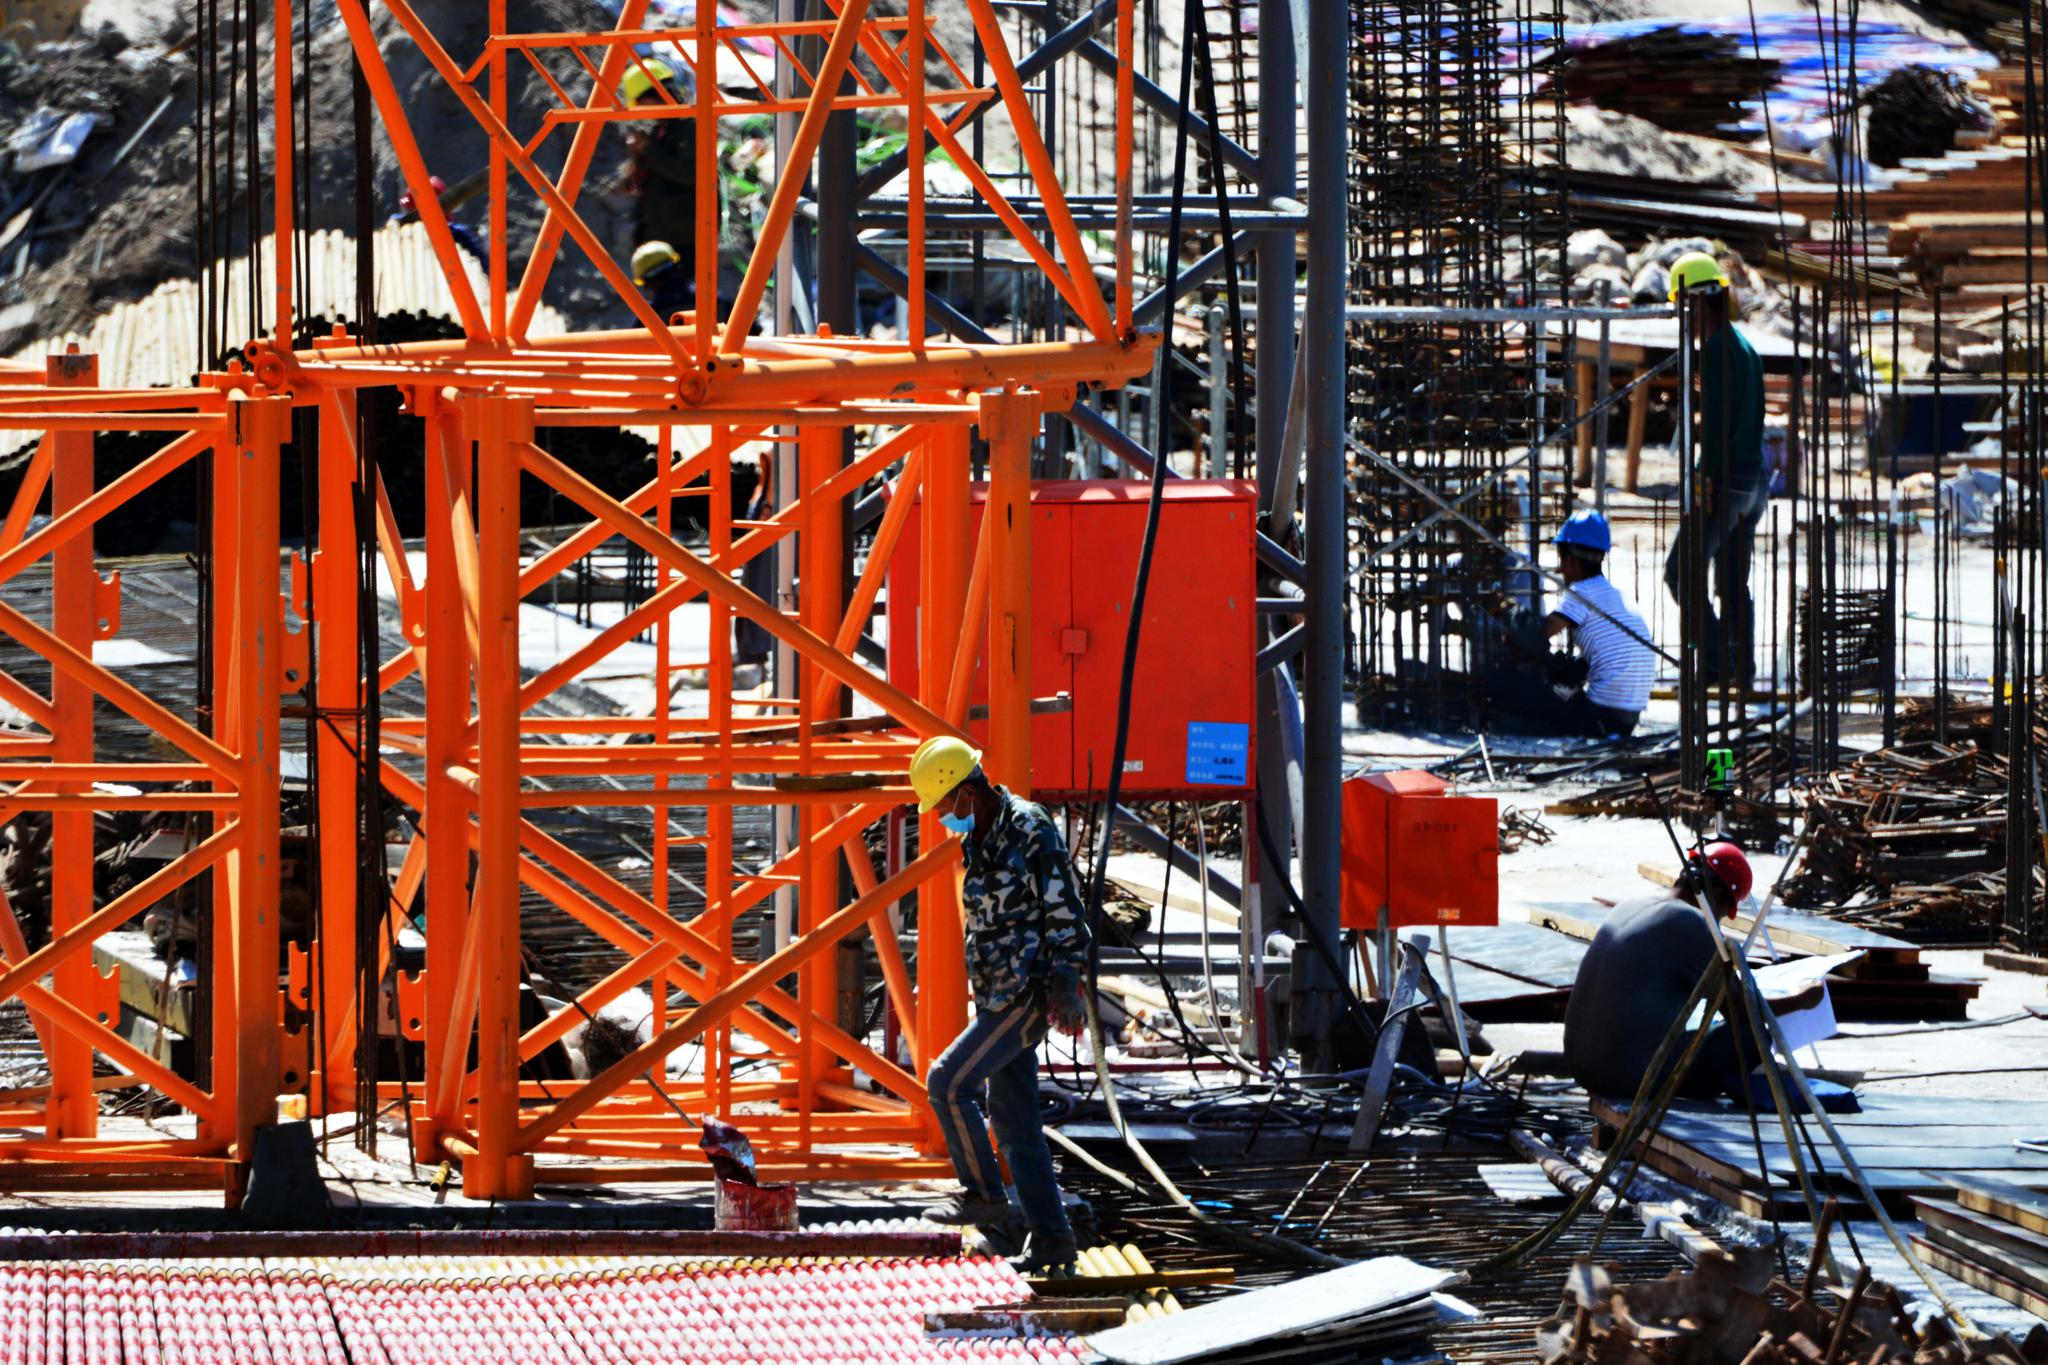safetyhat: (863, 722, 1118, 1254), (1587, 785, 1810, 1101), (1648, 222, 1794, 660), (1512, 487, 1661, 782)
